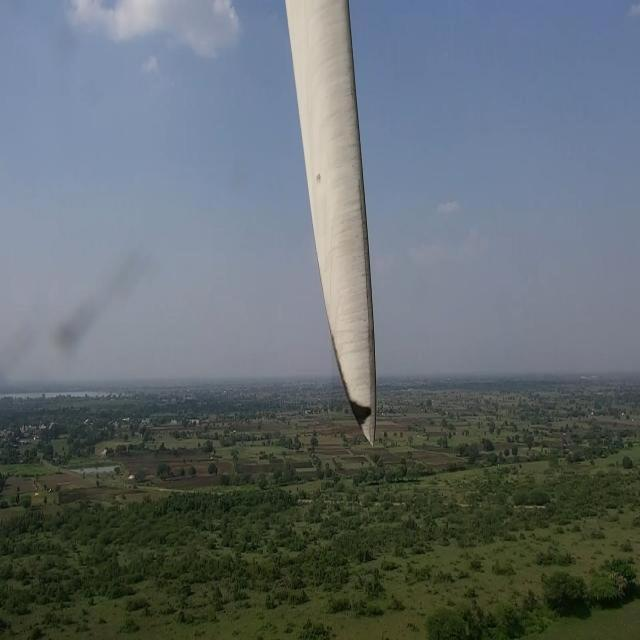Pin_Hole: (310, 166, 326, 189)
oil_leakage: (332, 331, 374, 437)
